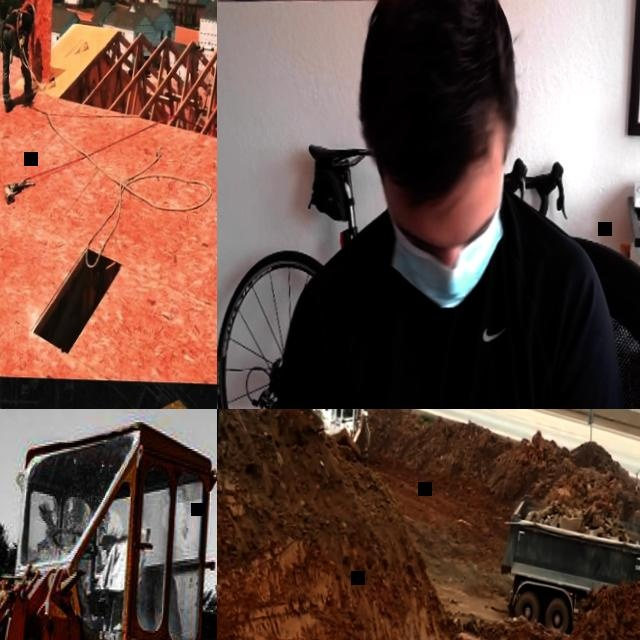Hardhat: (29, 4, 36, 23)
Mask: (385, 208, 507, 309)
NO-Hardhat: (349, 0, 523, 194)
NO-Safety Vest: (314, 199, 573, 409), (5, 8, 29, 35)
Person: (268, 0, 640, 409), (0, 2, 40, 113)
machinery: (0, 409, 217, 640), (496, 491, 640, 639), (308, 409, 373, 467)
